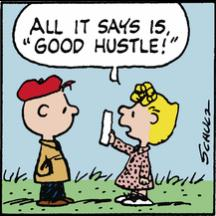charlie: (15, 72, 83, 206)
